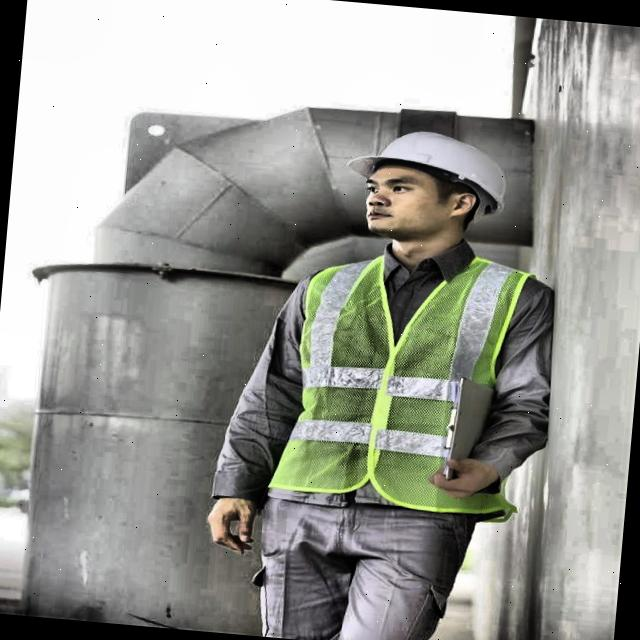helmet: (342, 104, 519, 266)
